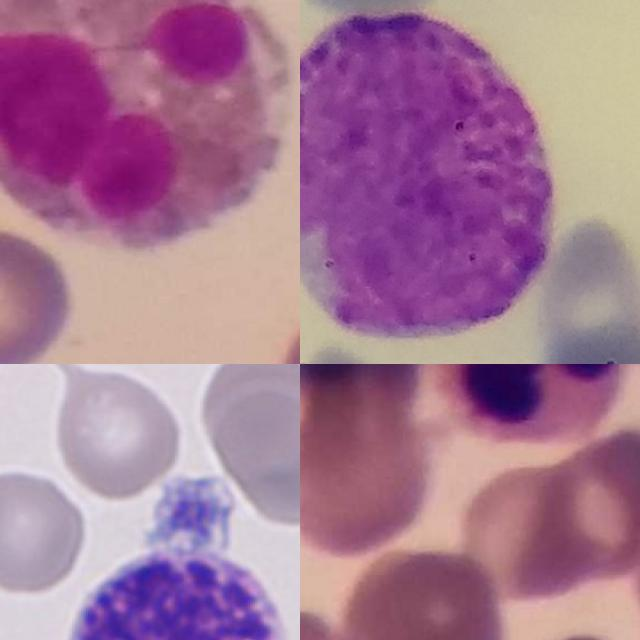Basophil: (300, 10, 555, 344)
Eosinophil: (0, 0, 288, 255)
Lymphocyte: (52, 470, 300, 640)
Neutrophil: (430, 364, 628, 442)
RBC: (51, 367, 184, 500), (210, 386, 300, 530), (189, 364, 300, 477), (0, 464, 89, 597)
